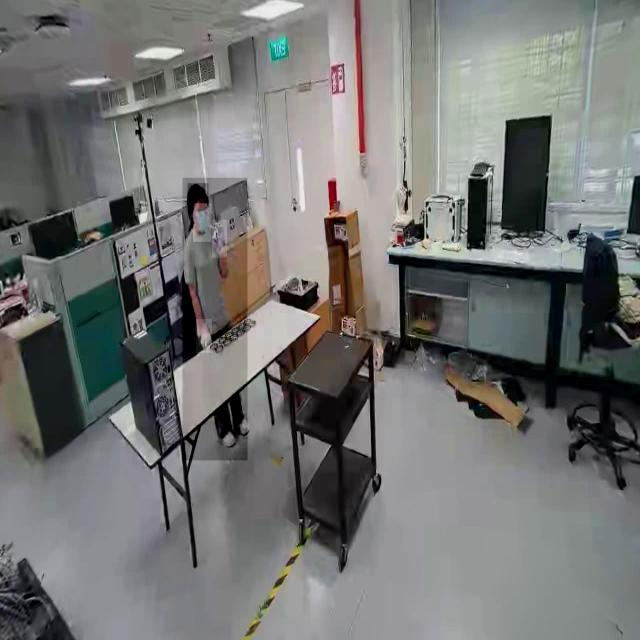face_mask: (193, 204, 211, 242)
hand_glove: (195, 319, 212, 354), (212, 220, 227, 258)
head_nohelmet: (187, 183, 209, 204)
person: (182, 178, 248, 461)
shoes: (214, 418, 238, 451), (232, 411, 252, 437)
